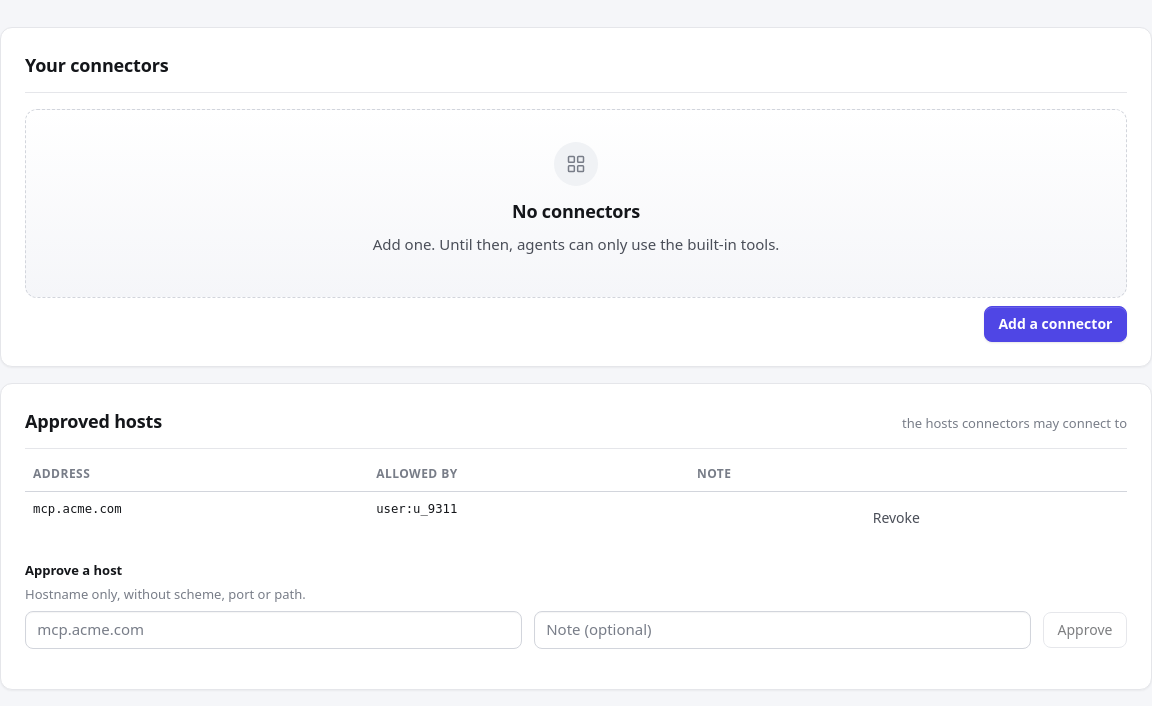
hosts › renders a pasted URL as the server's sentence about what to strip
(page scrolled)
Type "https://mcp.acme.com/mcp" into the field with placeholder "mcp.acme.com" at (274, 630), box top-left (25, 611), bottom-right (522, 649)
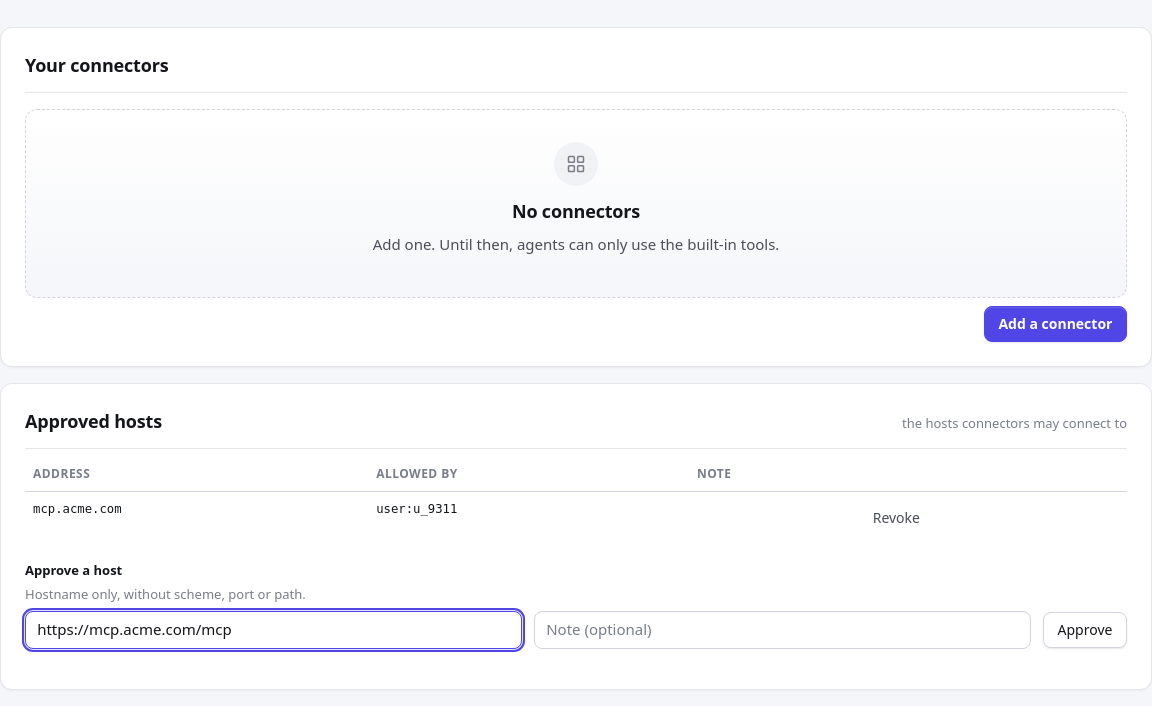
Click the button "Approve" at (1085, 630), box top-left (1043, 612), bottom-right (1127, 648)
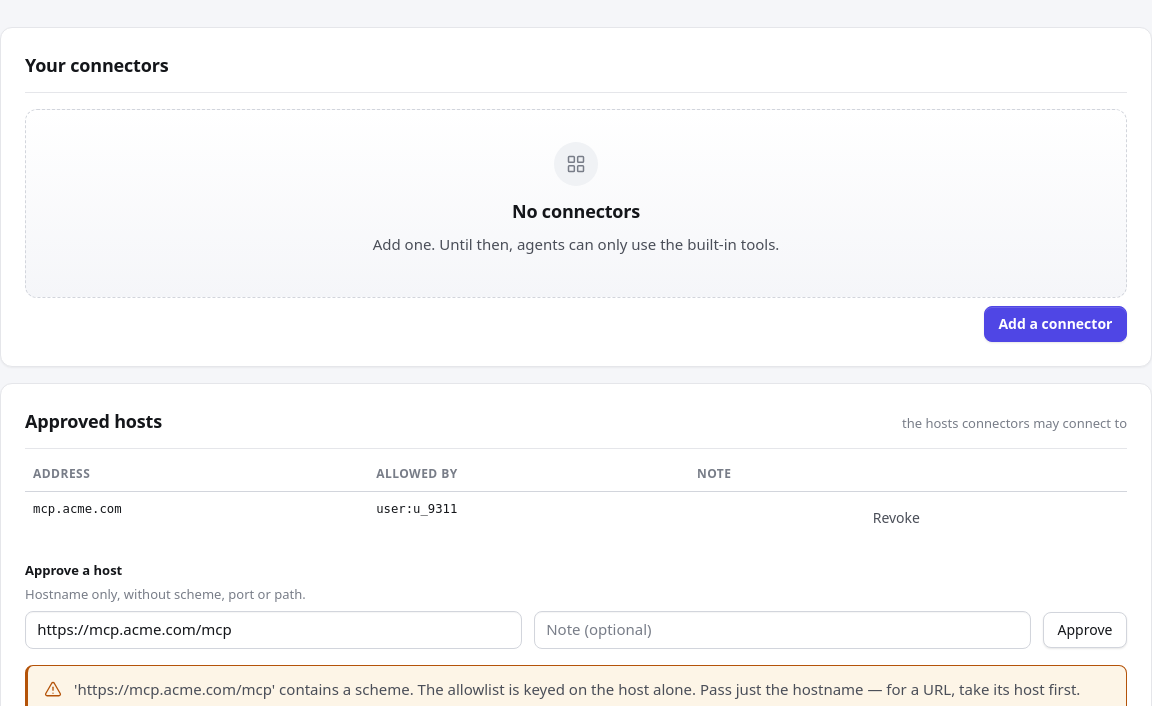
Expected: the text "Pass just the hostname" is shown, top-left (74, 679), bottom-right (1080, 699)
